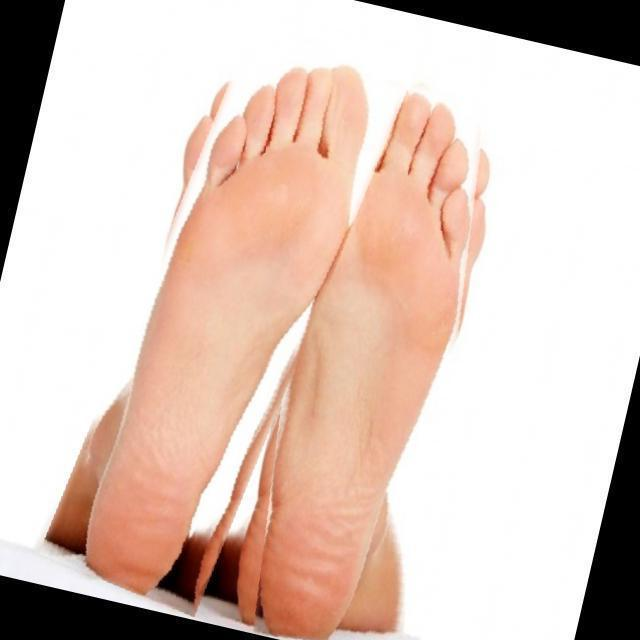No_Shoes: (84, 85, 521, 636)
